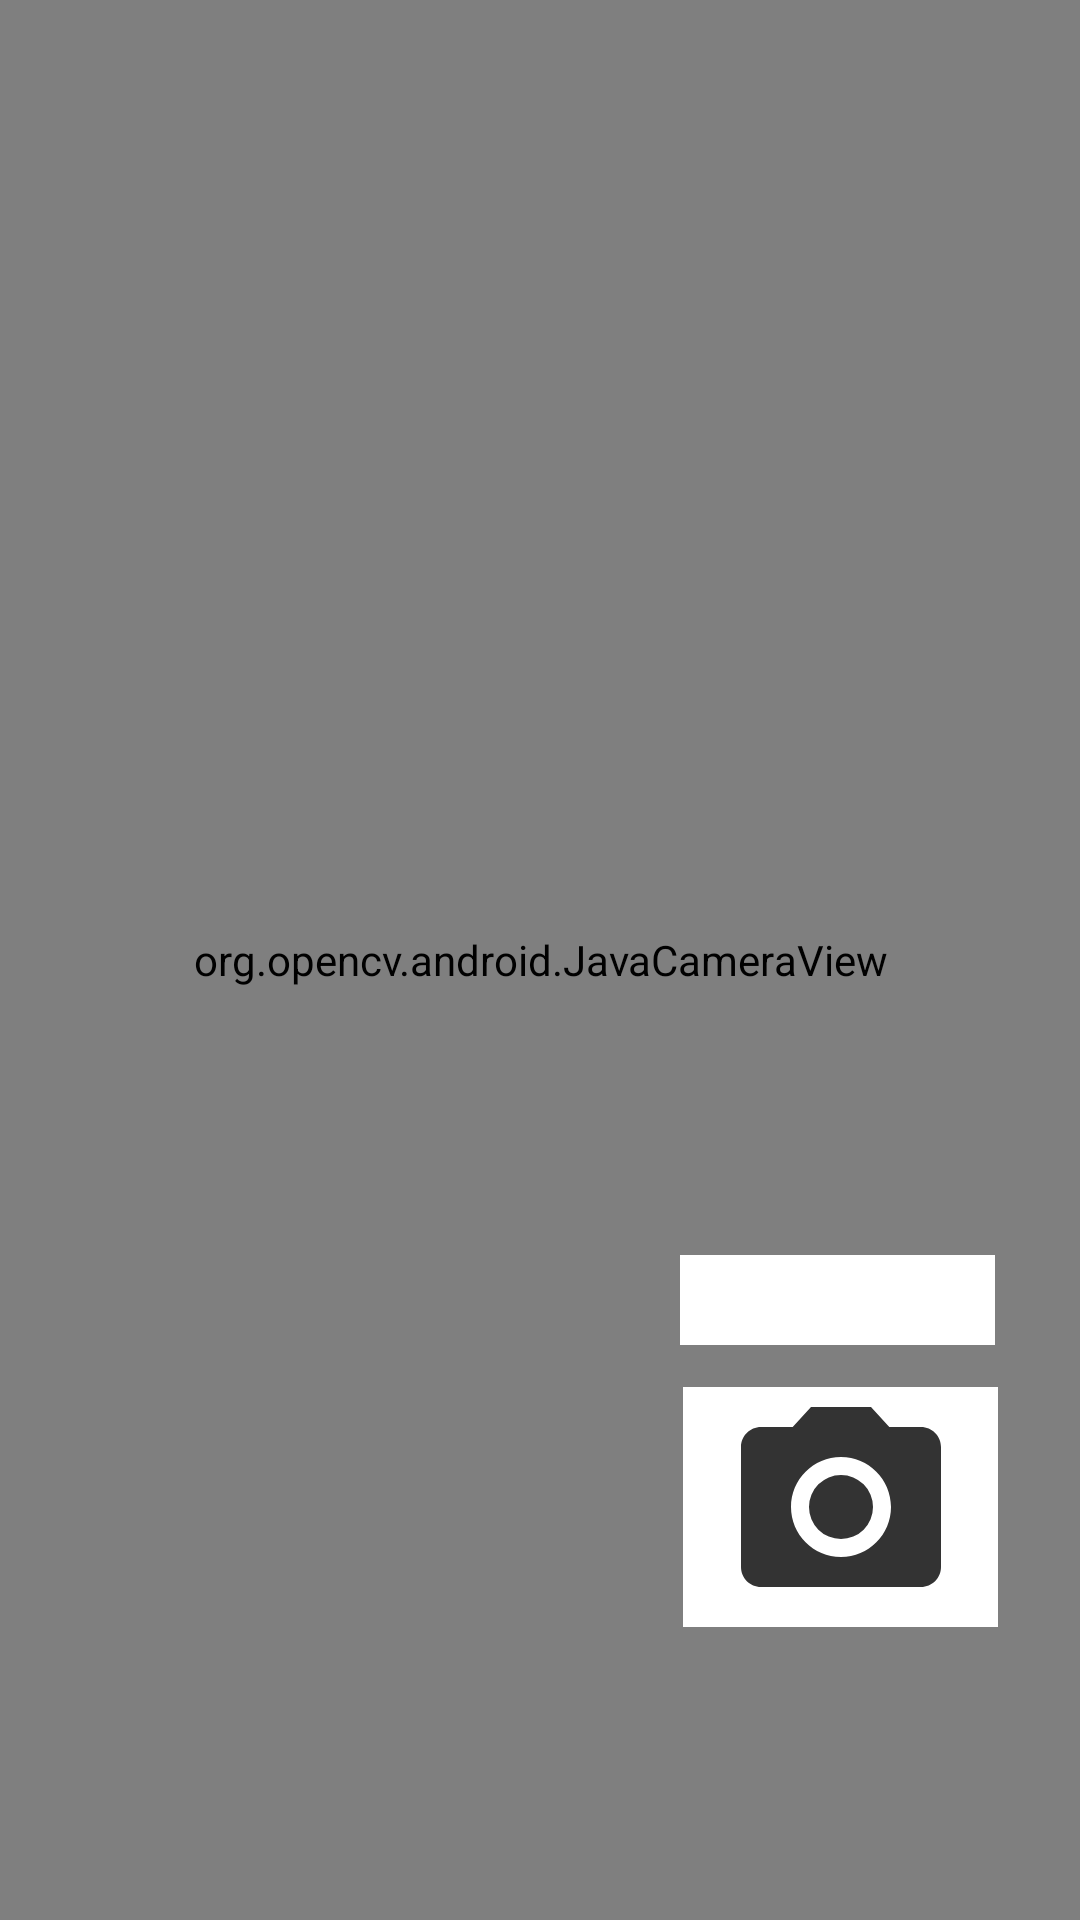

Named icons in this screenshot (1080×1920) and their bounding boxes, box(x1, y1, x2, y2):
take picture: box(683, 1387, 998, 1627)
